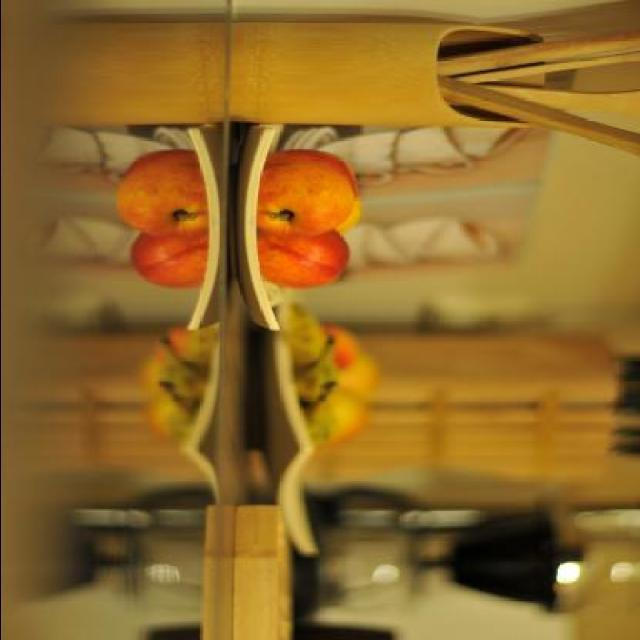Apple pie: (257, 228, 346, 290), (263, 151, 359, 197), (316, 382, 372, 450), (326, 323, 362, 374), (338, 352, 376, 394), (332, 195, 363, 233)
